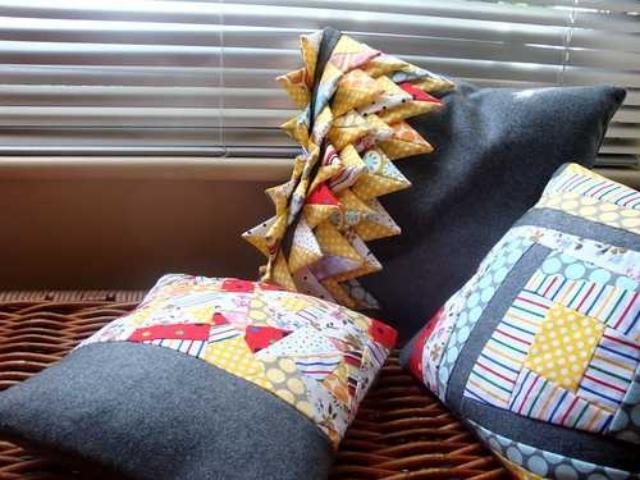pillow: (398, 160, 638, 478)
